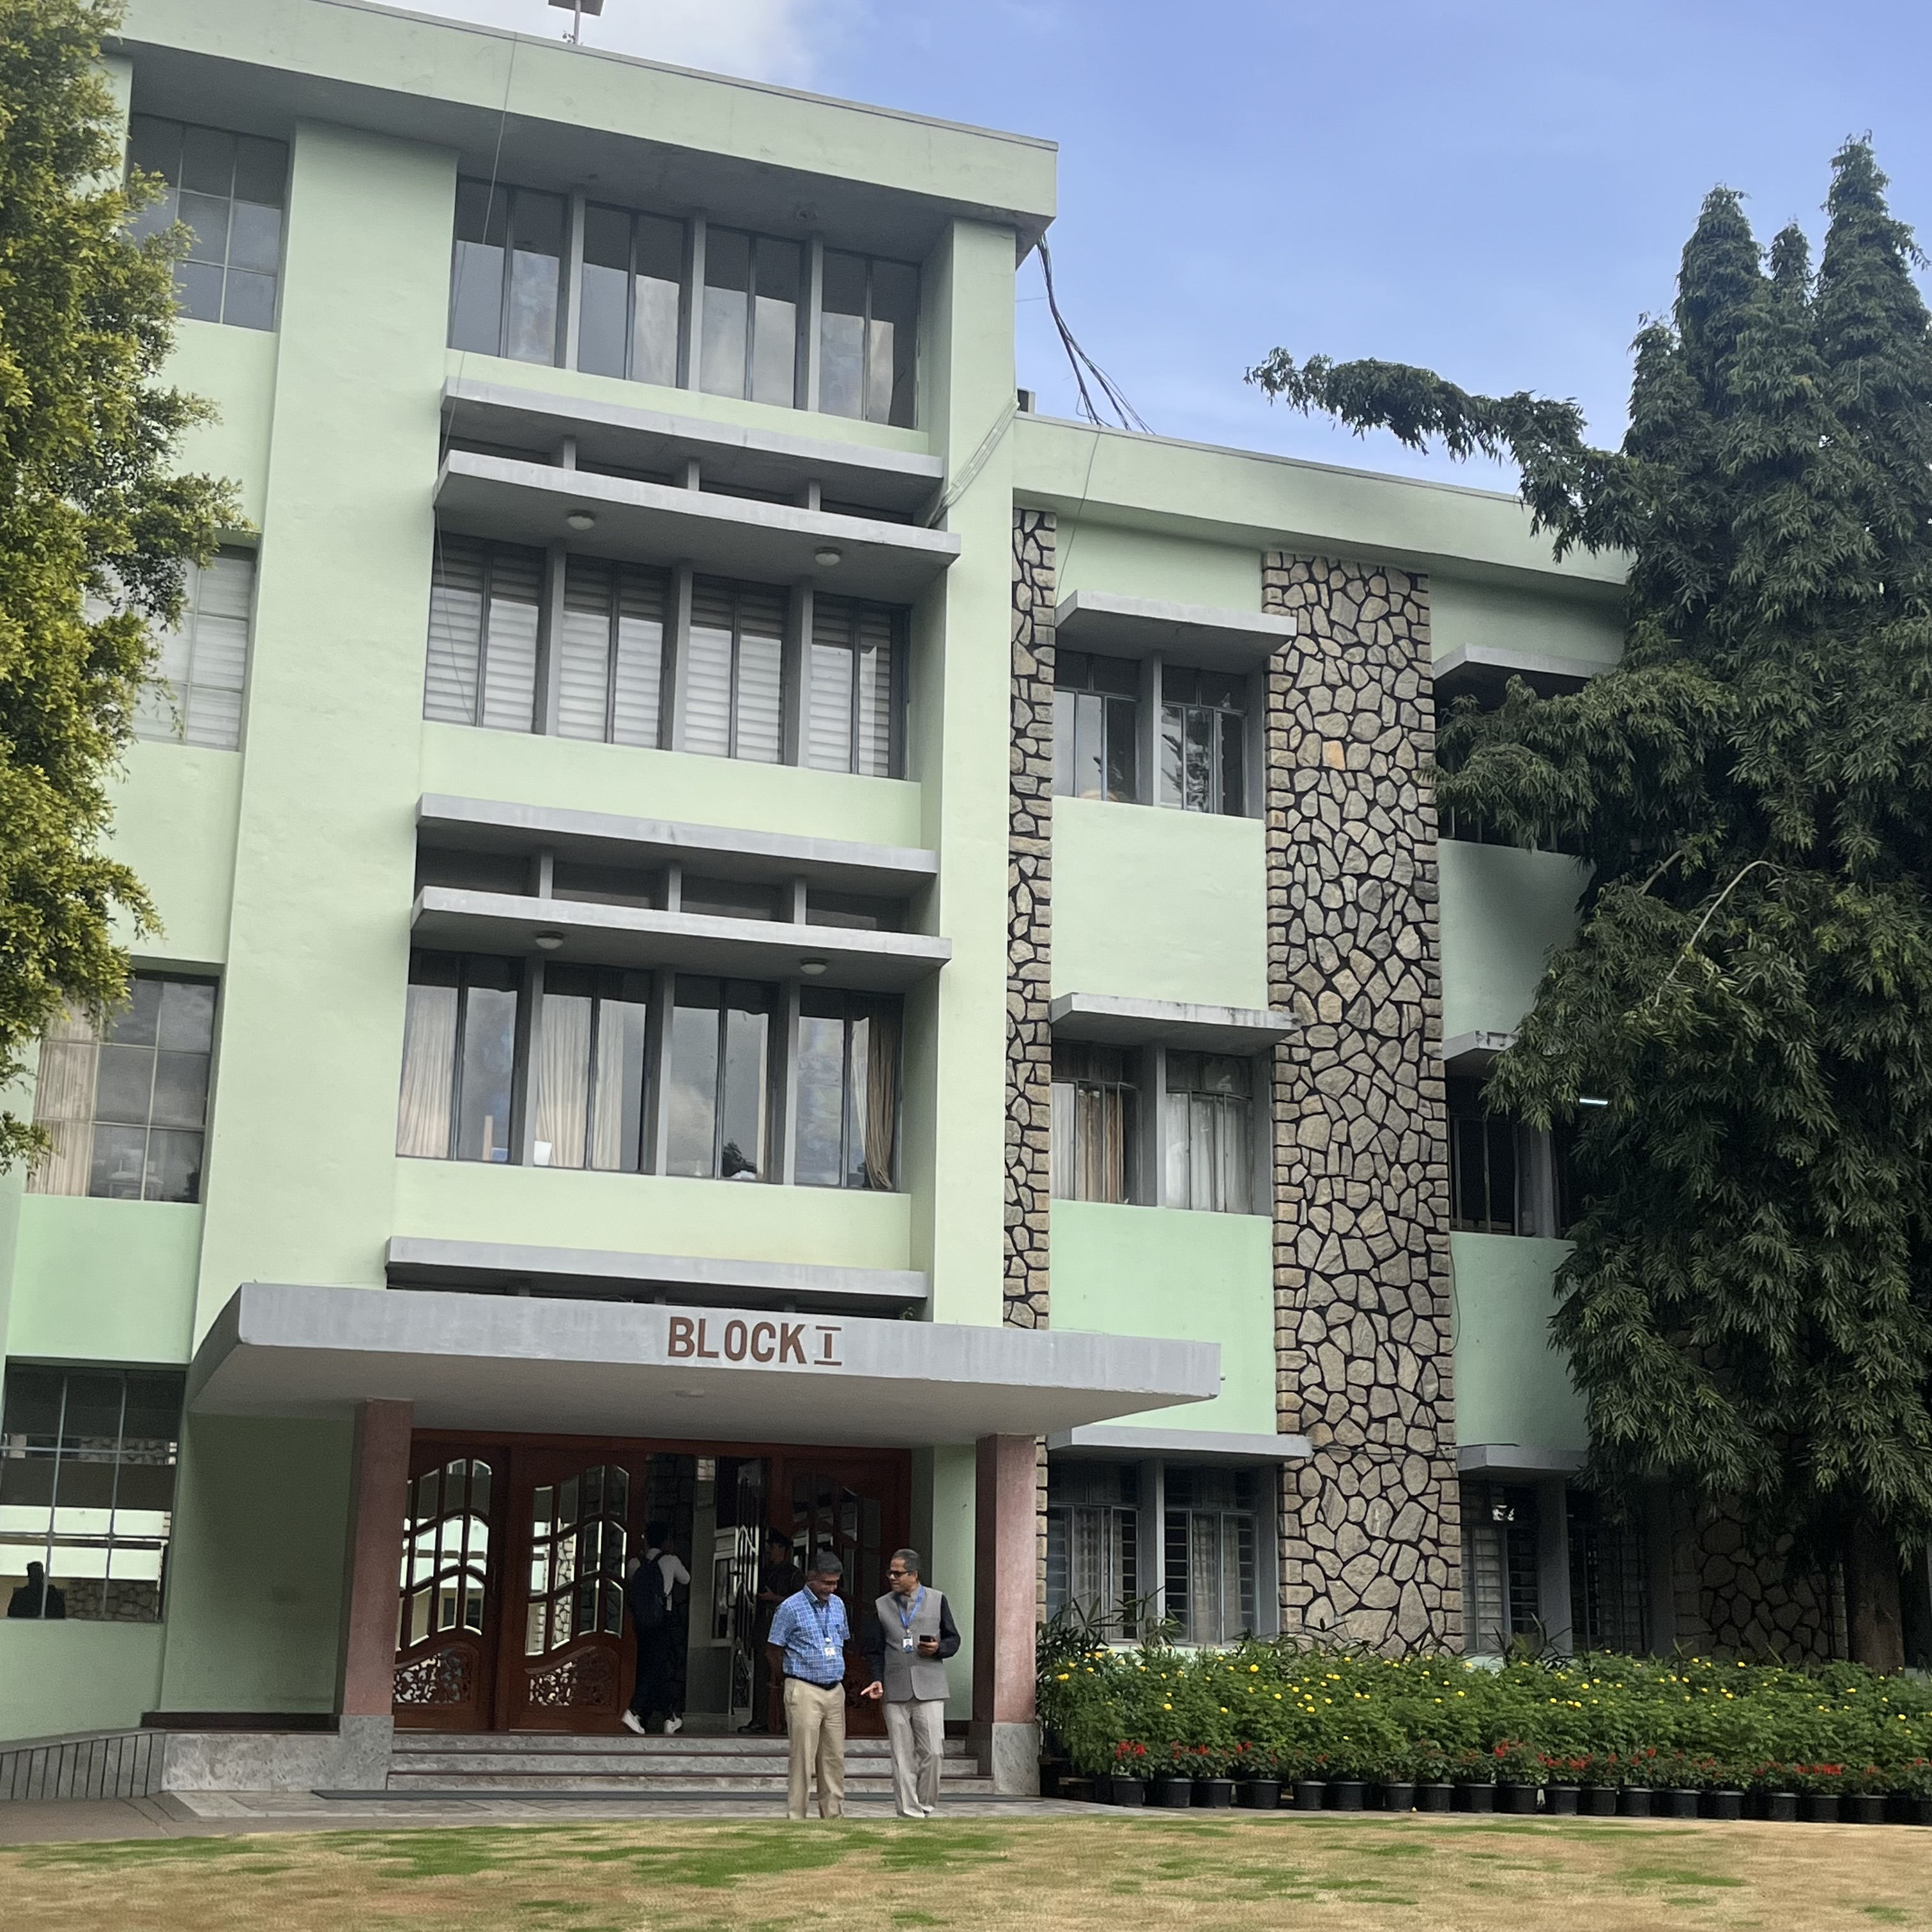Block 1: (165, 4, 1608, 1706)
